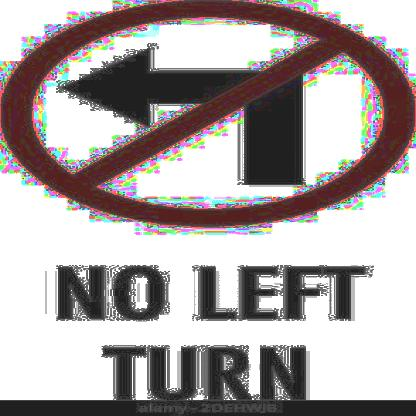No left turn: (0, 3, 415, 220)
